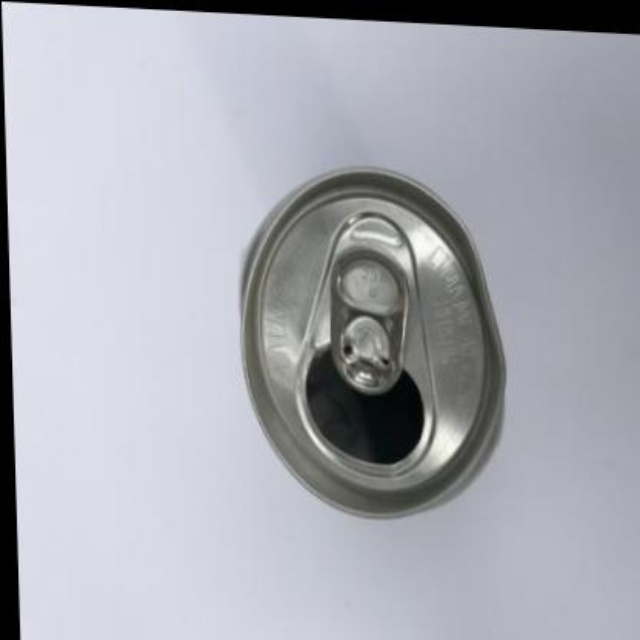trash: (243, 168, 503, 515)
